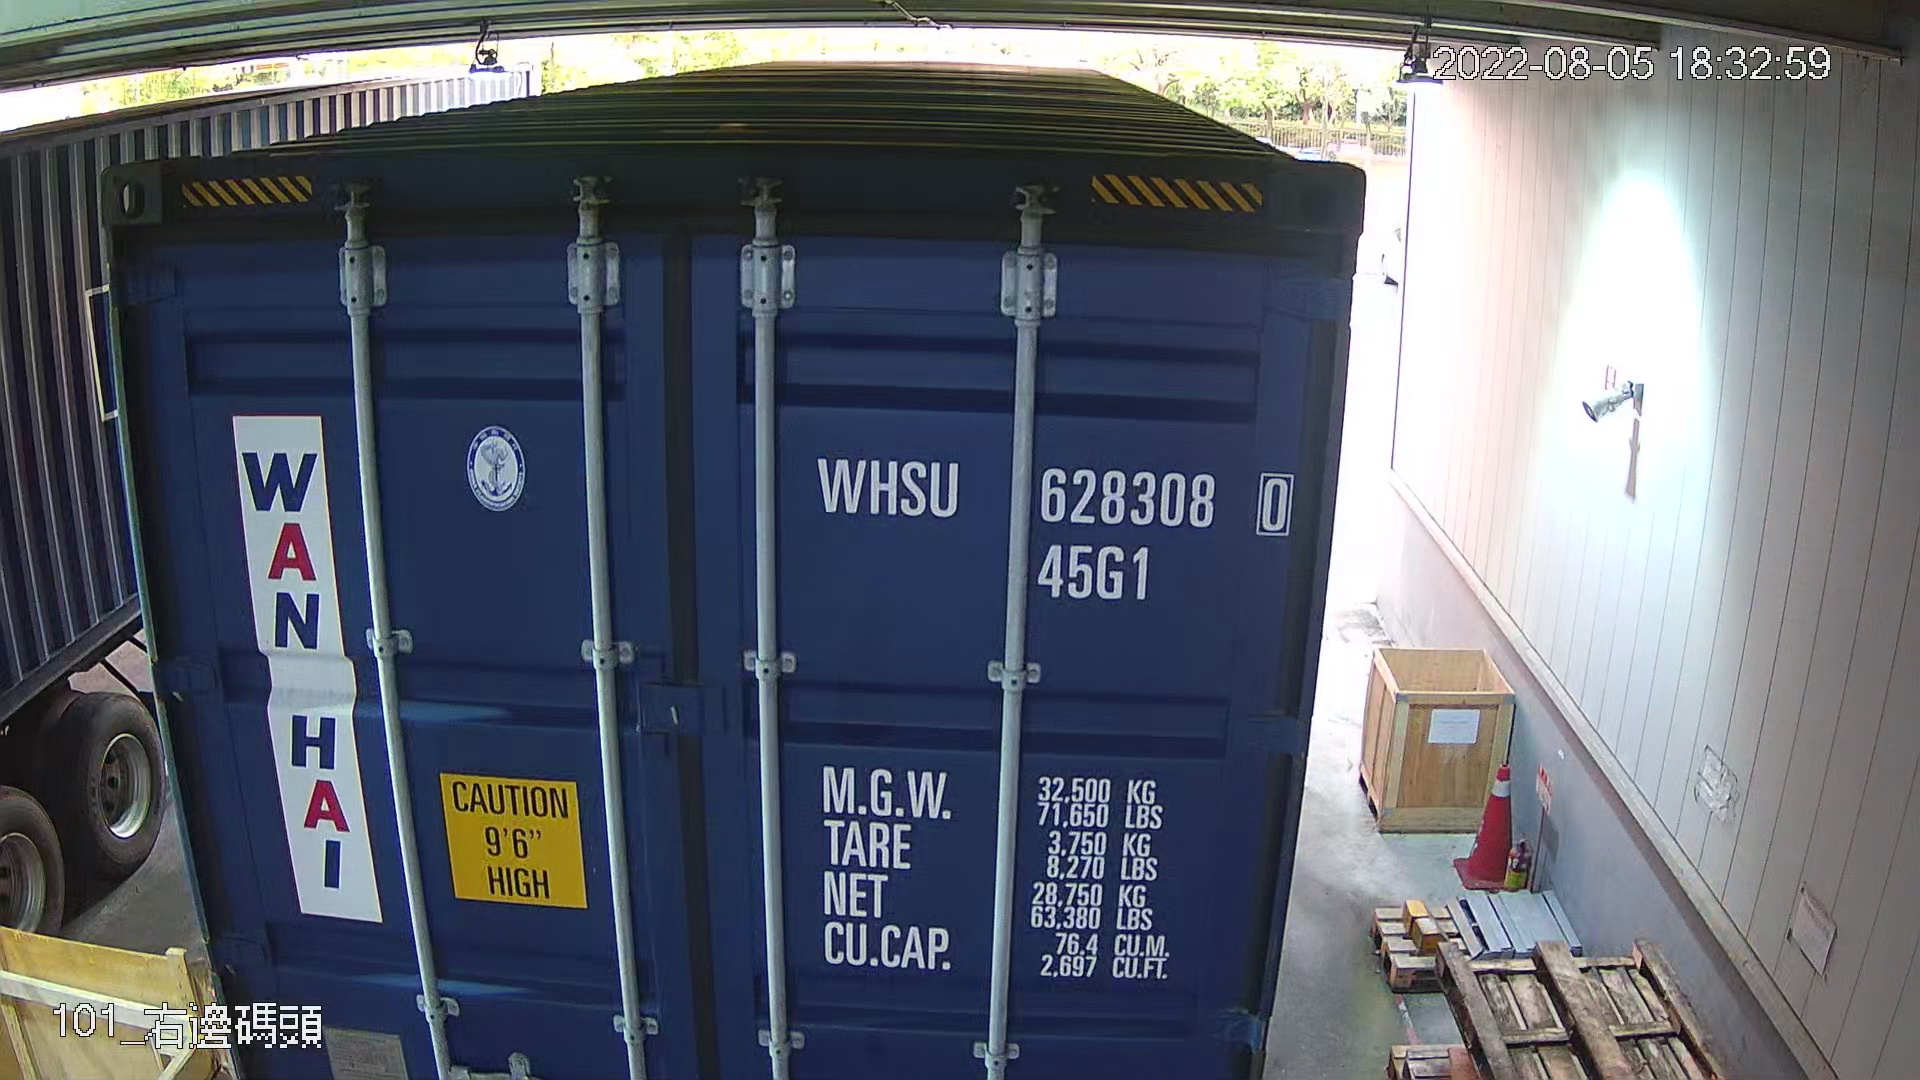container: (800, 430, 1303, 620)
